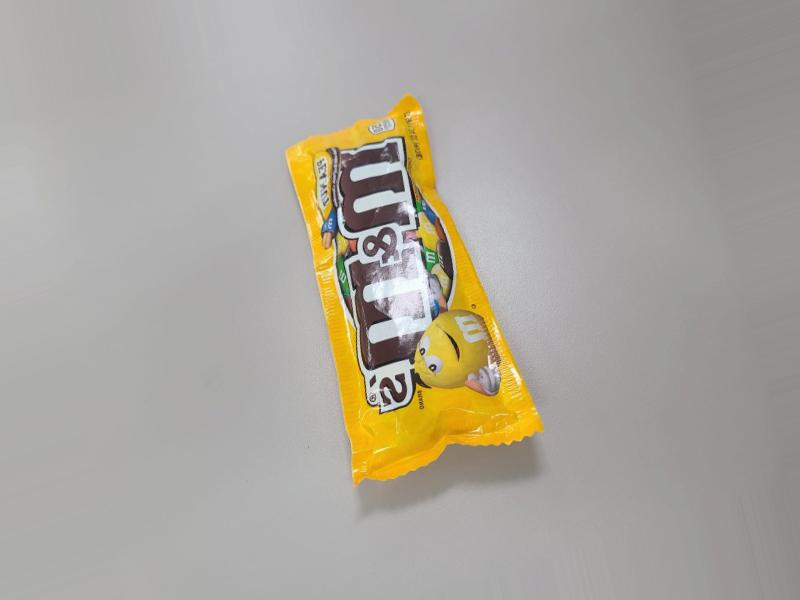m&m: (253, 71, 510, 489)
